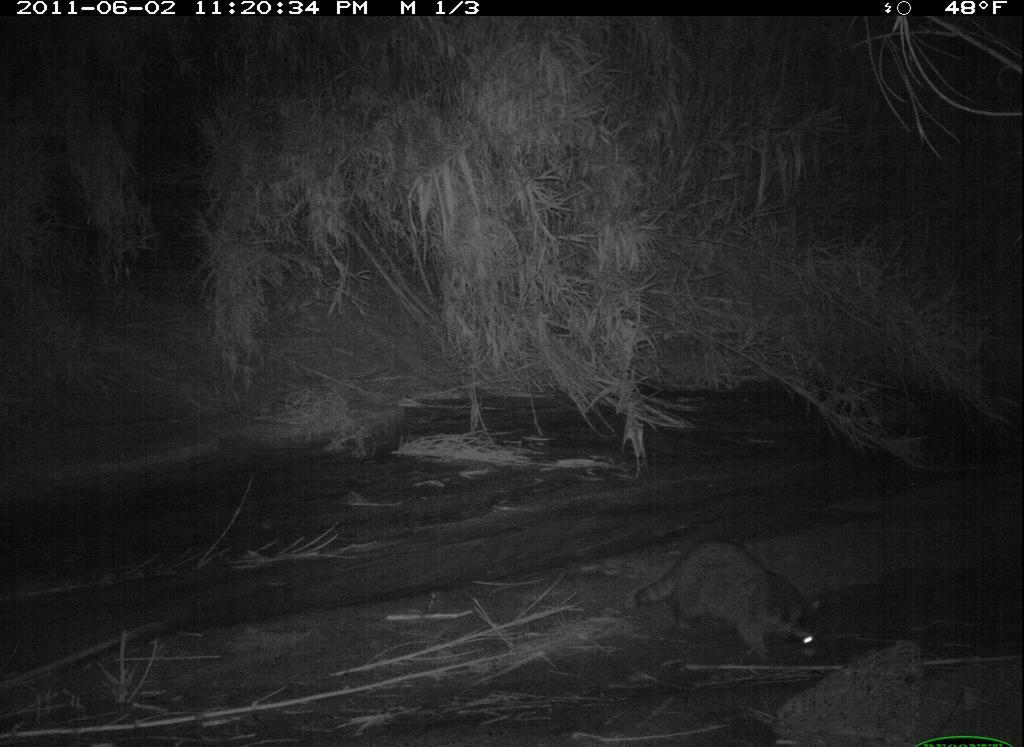raccoon: (633, 536, 849, 665)
